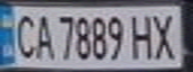7: (54, 11, 75, 61)
8: (72, 11, 93, 61), (90, 12, 109, 61)
9: (106, 11, 130, 61)
A: (30, 11, 57, 61)
C: (9, 10, 39, 60)
H: (127, 10, 160, 61)
X: (148, 10, 184, 61)
